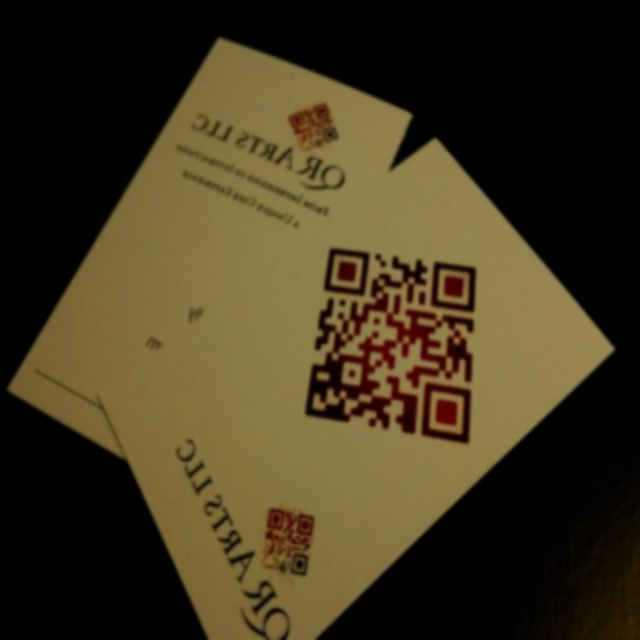qr-code: (305, 247, 476, 443), (260, 508, 315, 576), (288, 102, 340, 152)
